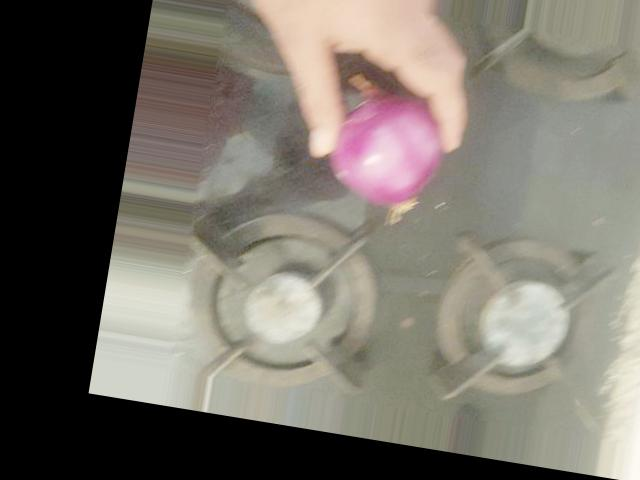onion: (316, 76, 452, 217)
